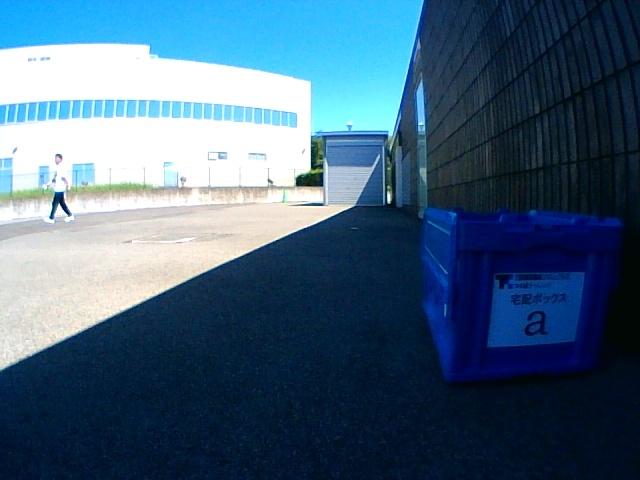blue_box: (424, 207, 621, 379)
tag_a: (499, 281, 572, 340)
